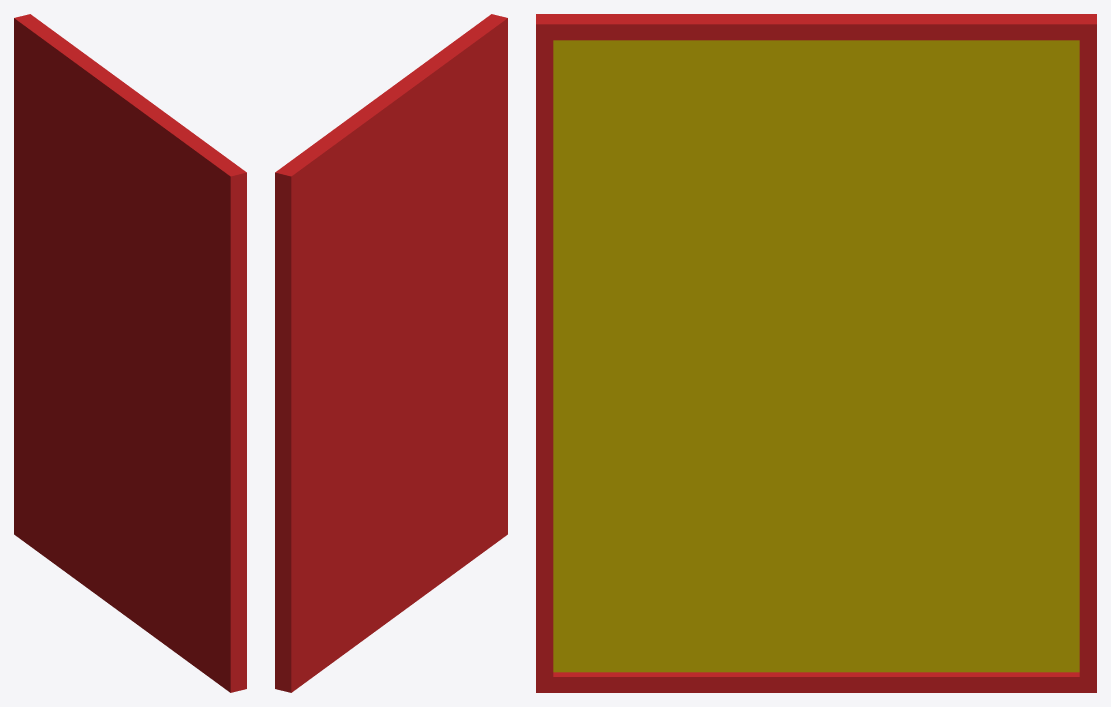
File: MOD_DEC_Painting_03.fbx
The picture shows the model from 3 angles, left to right: view 1: azimuth 30°, elevation 25°; view 2: azimuth 150°, elevation 25°; view 3: azimuth 270°, elevation 25°; orthographic projection. The views are drawn at different scales.
Parts seen in each view (by area): view 1: HSHP_MOD_Painting_03; view 2: HSHP_MOD_Painting_03; view 3: HSHP_MOD_Painting_03.
Part boxes in pixels (box(x1,y1,x2,y2)): HSHP_MOD_Painting_03: box(14, 14, 246, 692); HSHP_MOD_Painting_03: box(275, 14, 507, 692); HSHP_MOD_Painting_03: box(536, 14, 1096, 692).
Size of the model in its own units: 0.0417 by 1.26 by 0.9556.
